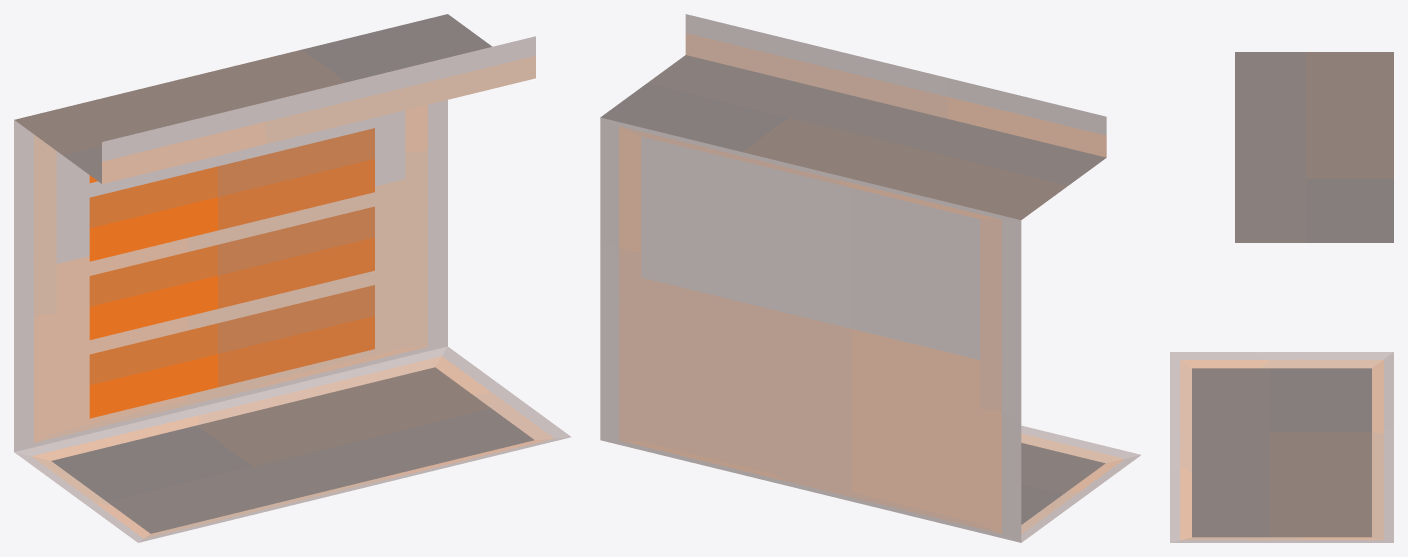
File: Grill-transformed.glb
The picture shows the model from 3 angles, left to right: view 1: azimuth 30°, elevation 25°; view 2: azimuth 150°, elevation 25°; view 3: azimuth 270°, elevation 25°; orthographic projection. The views are drawn at different scales.
Parts seen in each view (by area): view 1: Grill; view 2: Grill; view 3: Grill.
Part boxes in pixels (box(x1,y1,x2,y2)): Grill: box(14, 14, 571, 542); Grill: box(600, 14, 1140, 542); Grill: box(1170, 52, 1393, 542).
Size of the model in its own units: 15.18 by 12.73 by 7.51.
Materials: 1 (1 with a texture image).
